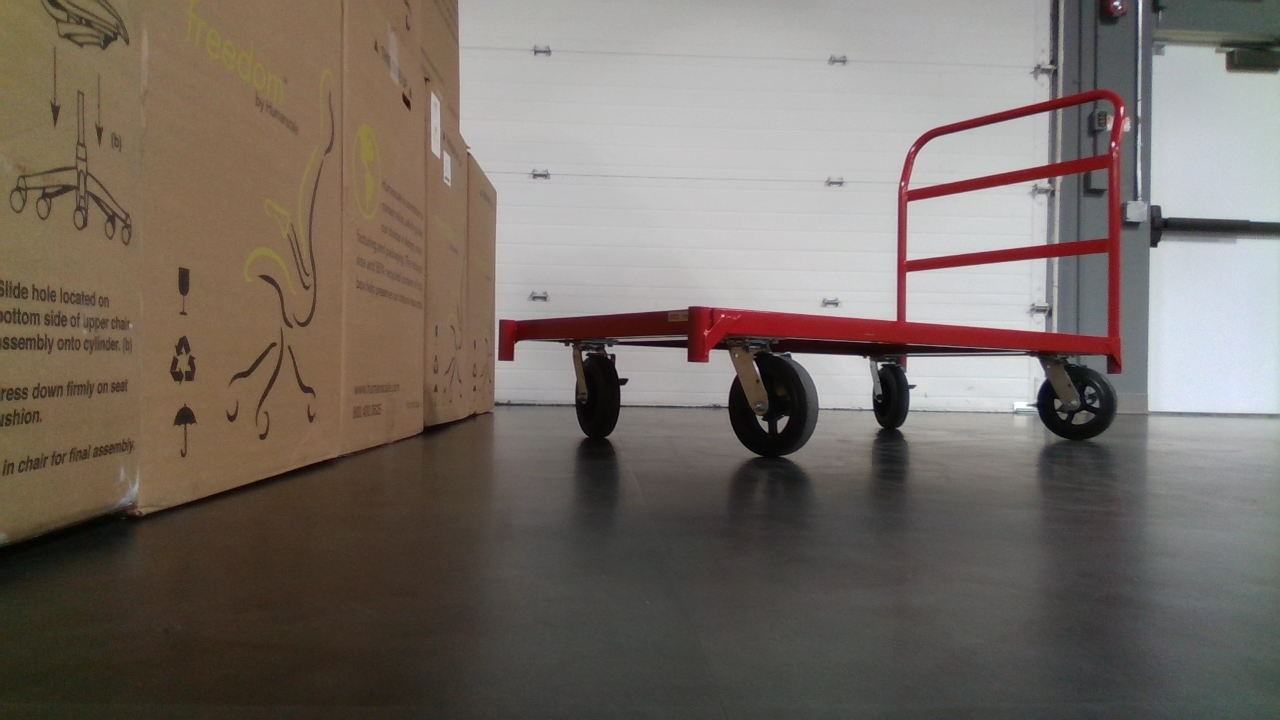Dolly: (499, 89, 1127, 460)
Wheel: (727, 353, 823, 459), (1037, 360, 1117, 439), (569, 344, 628, 441), (868, 352, 916, 429)
